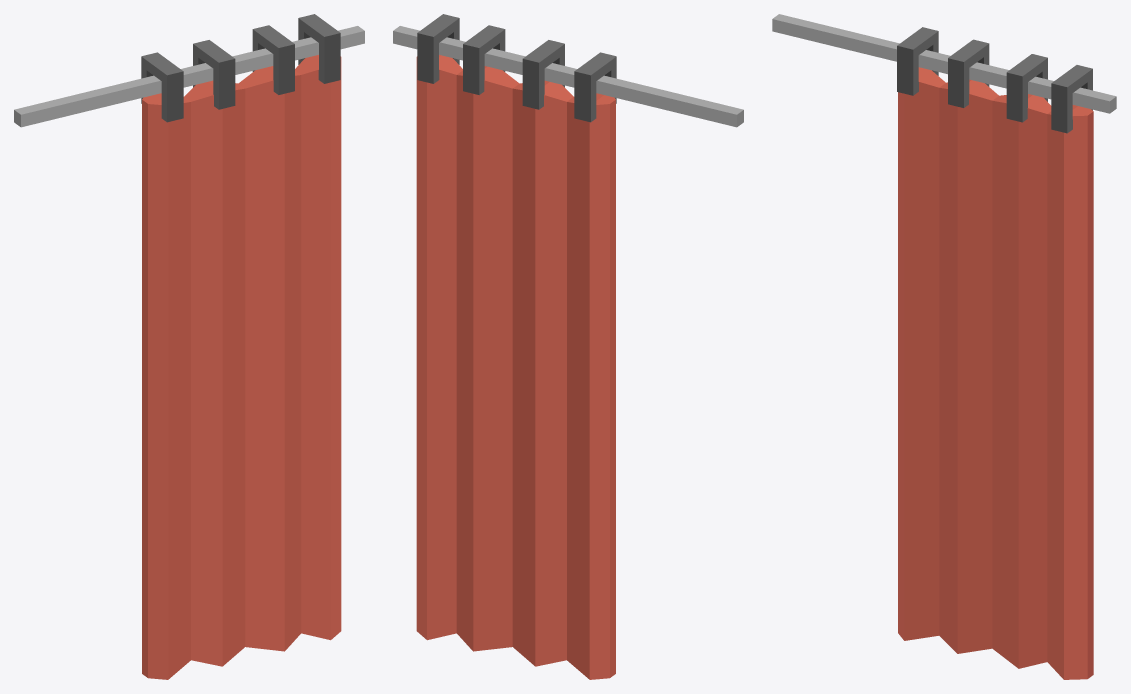
Rendered from Courtain.glb.
3 views of the same model, side by side, from view 1: azimuth 30°, elevation 25°; view 2: azimuth 150°, elevation 25°; view 3: azimuth 330°, elevation 25° (orthographic).
Visible parts, largest first — view 1: SI_Prop_Curtain_Fabric, SI_Prop_Curtain_01, SI_Prop_Curtain_Ring_01, SI_Prop_Curtain_Ring_04, SI_Prop_Curtain_Ring_02, SI_Prop_Curtain_Ring_03; view 2: SI_Prop_Curtain_Fabric, SI_Prop_Curtain_01, SI_Prop_Curtain_Ring_01, SI_Prop_Curtain_Ring_04, SI_Prop_Curtain_Ring_02, SI_Prop_Curtain_Ring_03; view 3: SI_Prop_Curtain_Fabric, SI_Prop_Curtain_01, SI_Prop_Curtain_Ring_01, SI_Prop_Curtain_Ring_03, SI_Prop_Curtain_Ring_02, SI_Prop_Curtain_Ring_04.
Boxes of the visible parts, bbox=[...] form: SI_Prop_Curtain_Fabric: bbox=[142, 55, 341, 679]; SI_Prop_Curtain_01: bbox=[14, 26, 364, 127]; SI_Prop_Curtain_Ring_01: bbox=[141, 52, 183, 122]; SI_Prop_Curtain_Ring_04: bbox=[298, 14, 340, 83]; SI_Prop_Curtain_Ring_02: bbox=[193, 40, 235, 109]; SI_Prop_Curtain_Ring_03: bbox=[252, 25, 294, 94]; SI_Prop_Curtain_Fabric: bbox=[416, 55, 615, 679]; SI_Prop_Curtain_01: bbox=[393, 26, 743, 127]; SI_Prop_Curtain_Ring_01: bbox=[574, 52, 616, 122]; SI_Prop_Curtain_Ring_04: bbox=[417, 14, 459, 83]; SI_Prop_Curtain_Ring_02: bbox=[522, 40, 564, 109]; SI_Prop_Curtain_Ring_03: bbox=[463, 25, 505, 94]; SI_Prop_Curtain_Fabric: bbox=[898, 67, 1093, 679]; SI_Prop_Curtain_01: bbox=[772, 14, 1116, 113]; SI_Prop_Curtain_Ring_01: bbox=[897, 27, 938, 95]; SI_Prop_Curtain_Ring_03: bbox=[1006, 54, 1047, 122]; SI_Prop_Curtain_Ring_02: bbox=[948, 39, 989, 107]; SI_Prop_Curtain_Ring_04: bbox=[1051, 65, 1092, 133].
Bounding box in the file's own units: 0.0214 × 0.0362 × 0.0028.
1 material, 1 textured.
